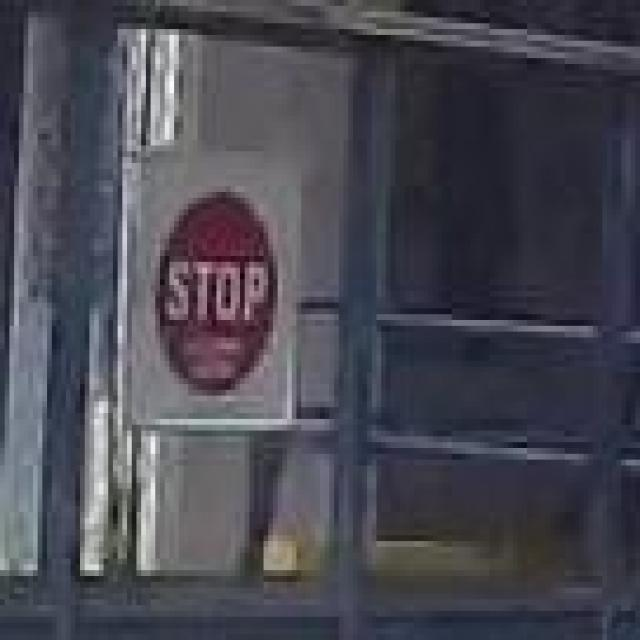traffic sign: (160, 192, 278, 402)
